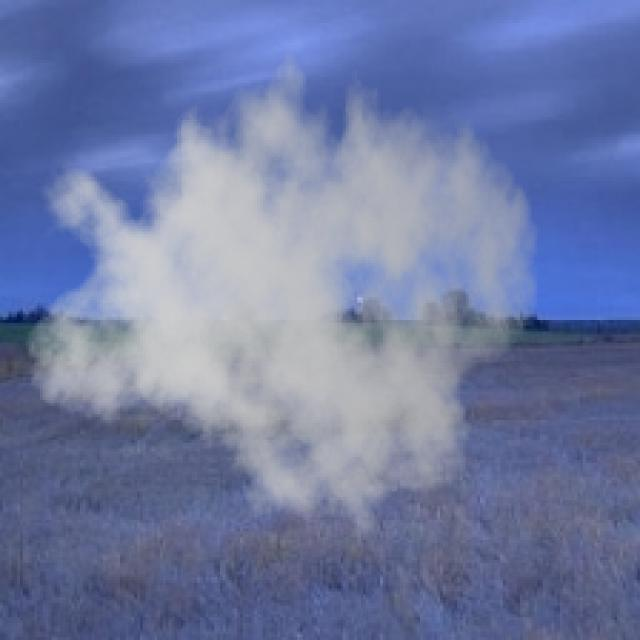smoke: (23, 29, 540, 548)
